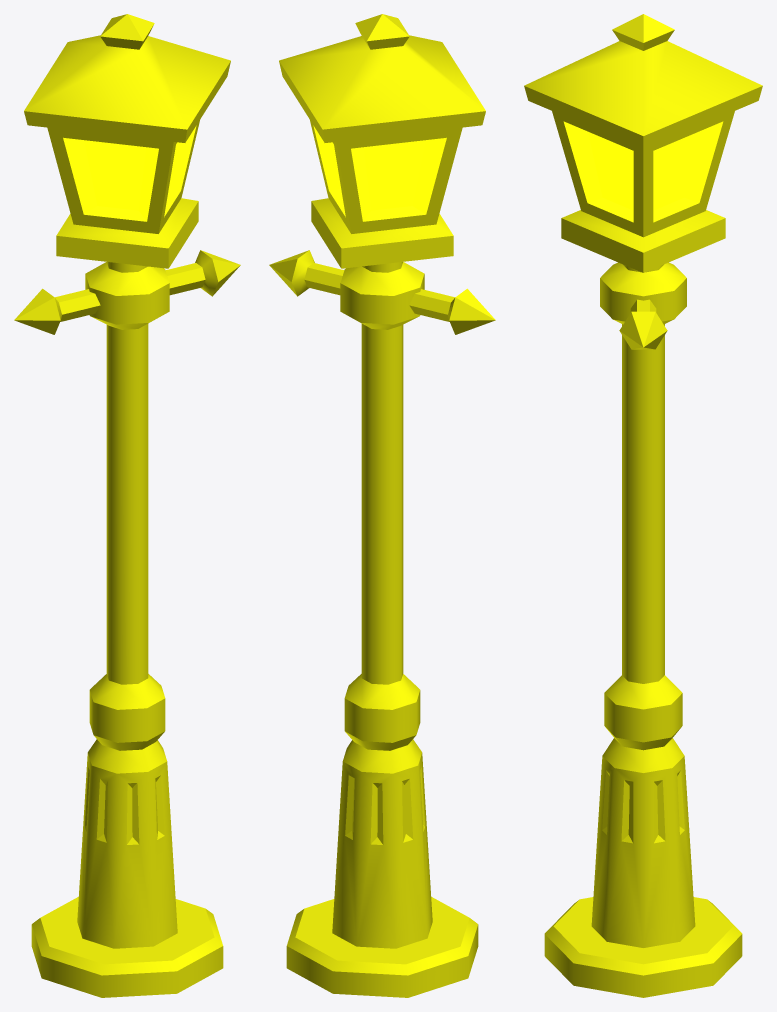
The model's file is kaykit-lantern.glb.
3 views of the same model, side by side, from view 1: azimuth 30°, elevation 25°; view 2: azimuth 150°, elevation 25°; view 3: azimuth 270°, elevation 25° (orthographic).
Visible parts, largest first — view 1: lantern; view 2: lantern; view 3: lantern.
Part boxes in pixels (x1,y1,x2,y2): lantern: (14, 14, 240, 997); lantern: (269, 14, 495, 997); lantern: (524, 14, 762, 997).
Bounding box in the file's own units: 0.9914 × 3.94 × 0.9052.
